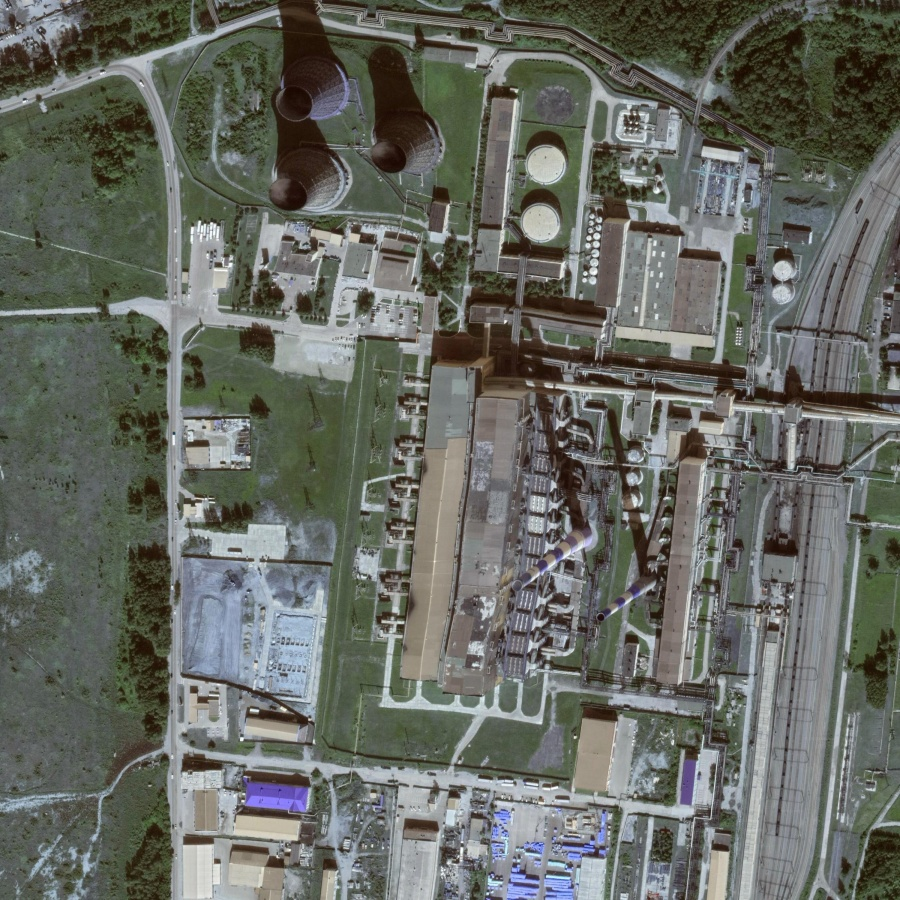PowerPlant: (482, 324, 735, 652)
